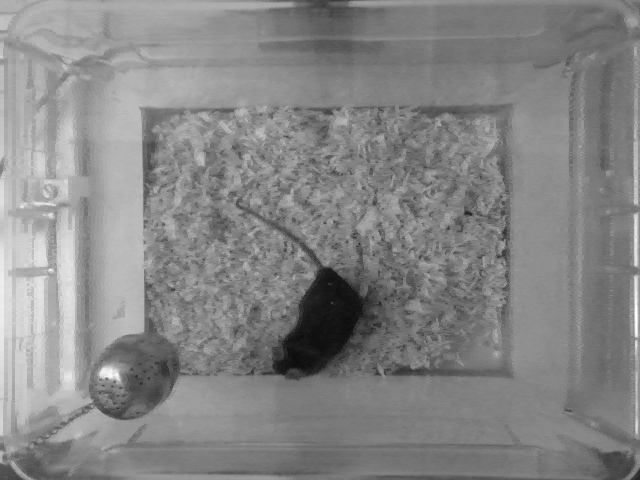mice: (232, 199, 361, 383)
